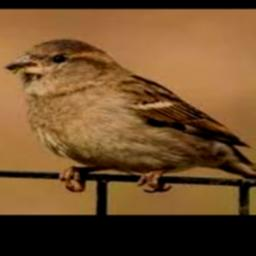Sparrow: (5, 39, 256, 205)
